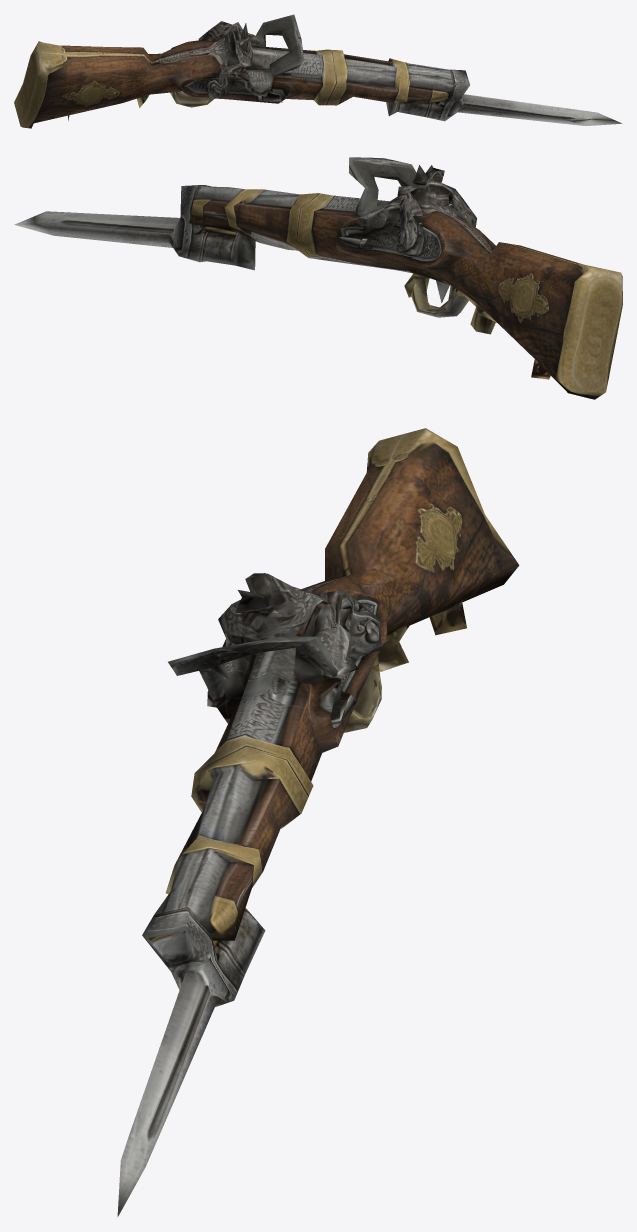
File: infantry_mix_musket.glb
3 renders of one model, top to bottom at view 1: azimuth 30°, elevation 25°; view 2: azimuth 150°, elevation 25°; view 3: azimuth 270°, elevation 25°, orthographic. The views are drawn at different scales.
Visible parts, largest first — view 1: tripo_node_a1bf118b-a6bb-4954-bc39-c4d9771fa462.001; view 2: tripo_node_a1bf118b-a6bb-4954-bc39-c4d9771fa462.001; view 3: tripo_node_a1bf118b-a6bb-4954-bc39-c4d9771fa462.001.
Part boxes in pixels (x1=…): tripo_node_a1bf118b-a6bb-4954-bc39-c4d9771fa462.001: x1=14, y1=14, x2=621, y2=128; tripo_node_a1bf118b-a6bb-4954-bc39-c4d9771fa462.001: x1=14, y1=157, x2=622, y2=399; tripo_node_a1bf118b-a6bb-4954-bc39-c4d9771fa462.001: x1=117, y1=428, x2=519, y2=1216.
Bounding box in the file's own units: 0.6104 × 0.1744 × 0.2044.
1 material, 1 textured.
